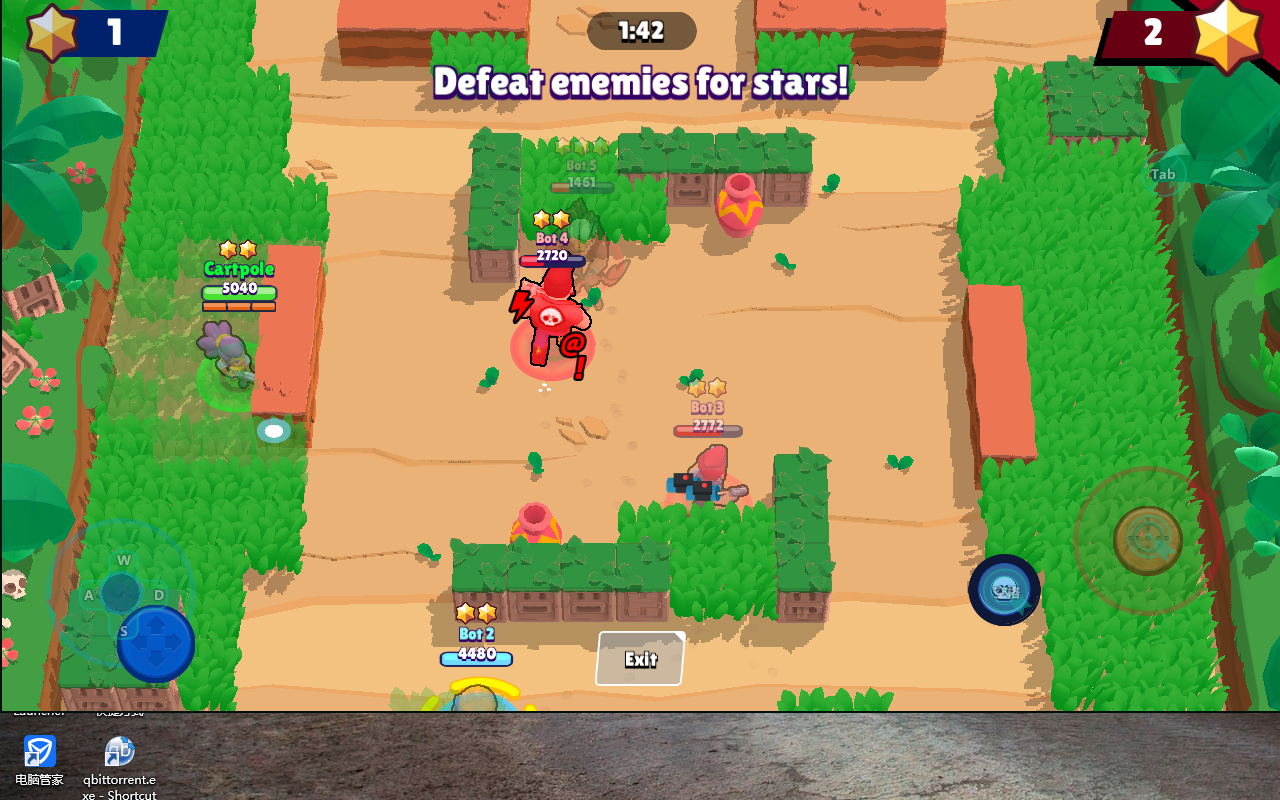current_player: (197, 348, 281, 413)
